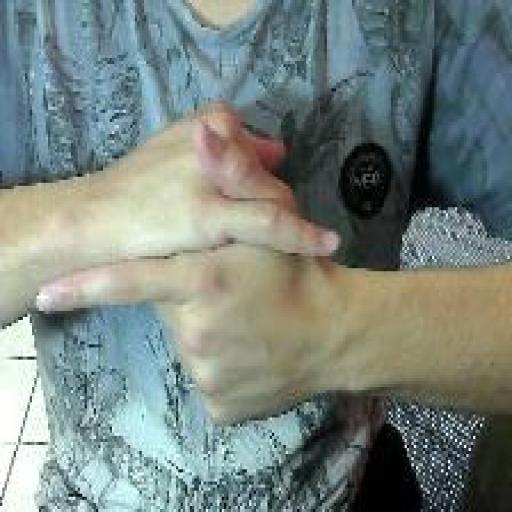U -hare-: (30, 97, 343, 439)
